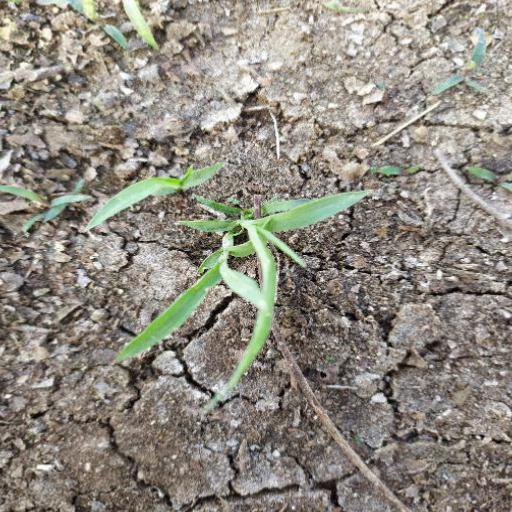weed: (89, 171, 385, 411)
